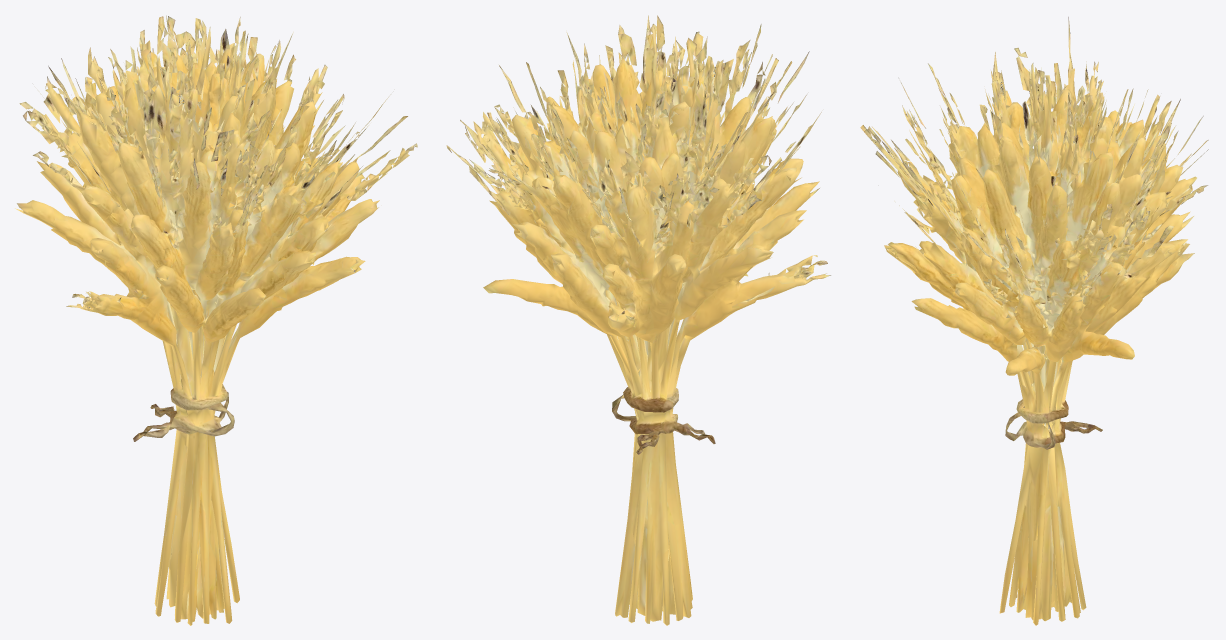
The model's file is wheat-bundle.glb.
The picture shows the model from 3 angles, left to right: view 1: azimuth 30°, elevation 25°; view 2: azimuth 150°, elevation 25°; view 3: azimuth 270°, elevation 25°; orthographic projection. The views are drawn at different scales.
Parts seen in each view (by area): view 1: Mesh_0.001; view 2: Mesh_0.001; view 3: Mesh_0.001.
Part boxes in pixels (left/top/right/bottom): Mesh_0.001: left=15, top=15, right=417, bottom=625; Mesh_0.001: left=446, top=15, right=830, bottom=625; Mesh_0.001: left=860, top=17, right=1208, bottom=625.
Size of the model in its own units: 0.3086 by 0.5 by 0.2881.
1 material, 1 textured.
